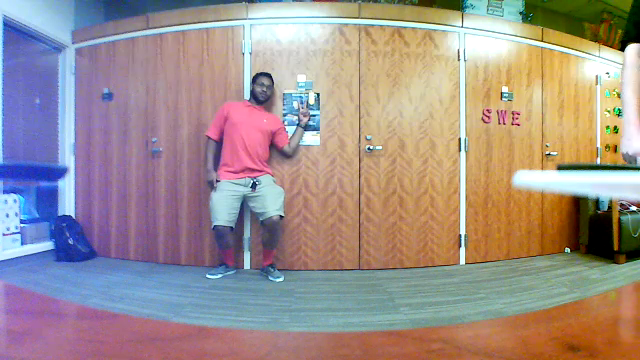peace: (293, 96, 313, 126)
